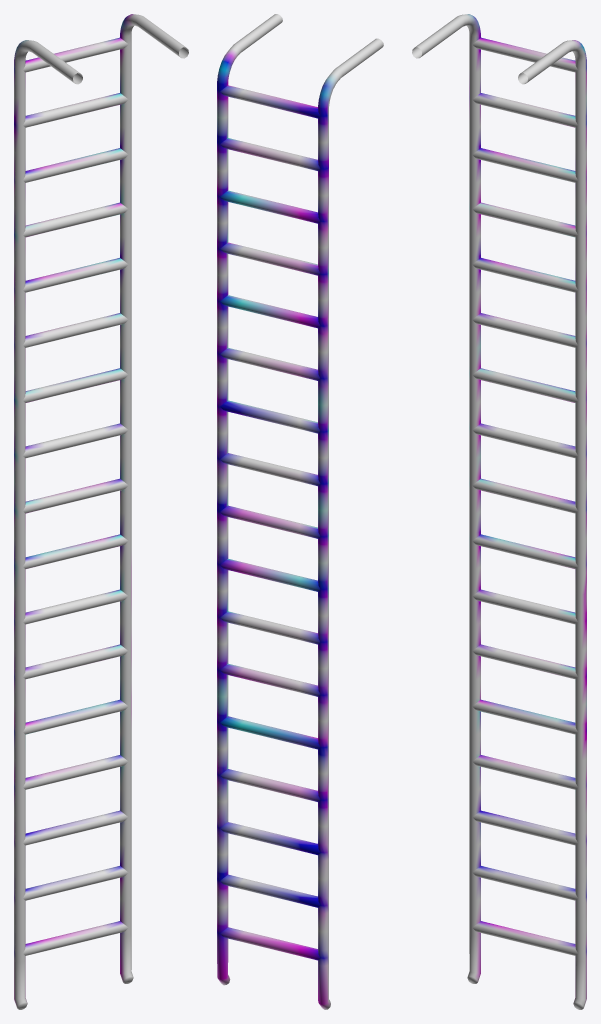
File: SM_Dive_Capsul-A_Ledder.fbx
The picture shows the model from 3 angles, left to right: view 1: azimuth 30°, elevation 25°; view 2: azimuth 150°, elevation 25°; view 3: azimuth 330°, elevation 25°; orthographic projection. The views are drawn at different scales.
Parts seen in each view (by area): view 1: SM_Dive_Capsul-A_Ledder_LOD0; view 2: SM_Dive_Capsul-A_Ledder_LOD0; view 3: SM_Dive_Capsul-A_Ledder_LOD0.
Boxes of the visible parts, box(x1,y1,x2,y2) form: SM_Dive_Capsul-A_Ledder_LOD0: box(14, 14, 188, 1009); SM_Dive_Capsul-A_Ledder_LOD0: box(217, 14, 383, 1009); SM_Dive_Capsul-A_Ledder_LOD0: box(412, 14, 586, 1009).
Size of the model in its own units: 56.26 by 51.95 by 455.
